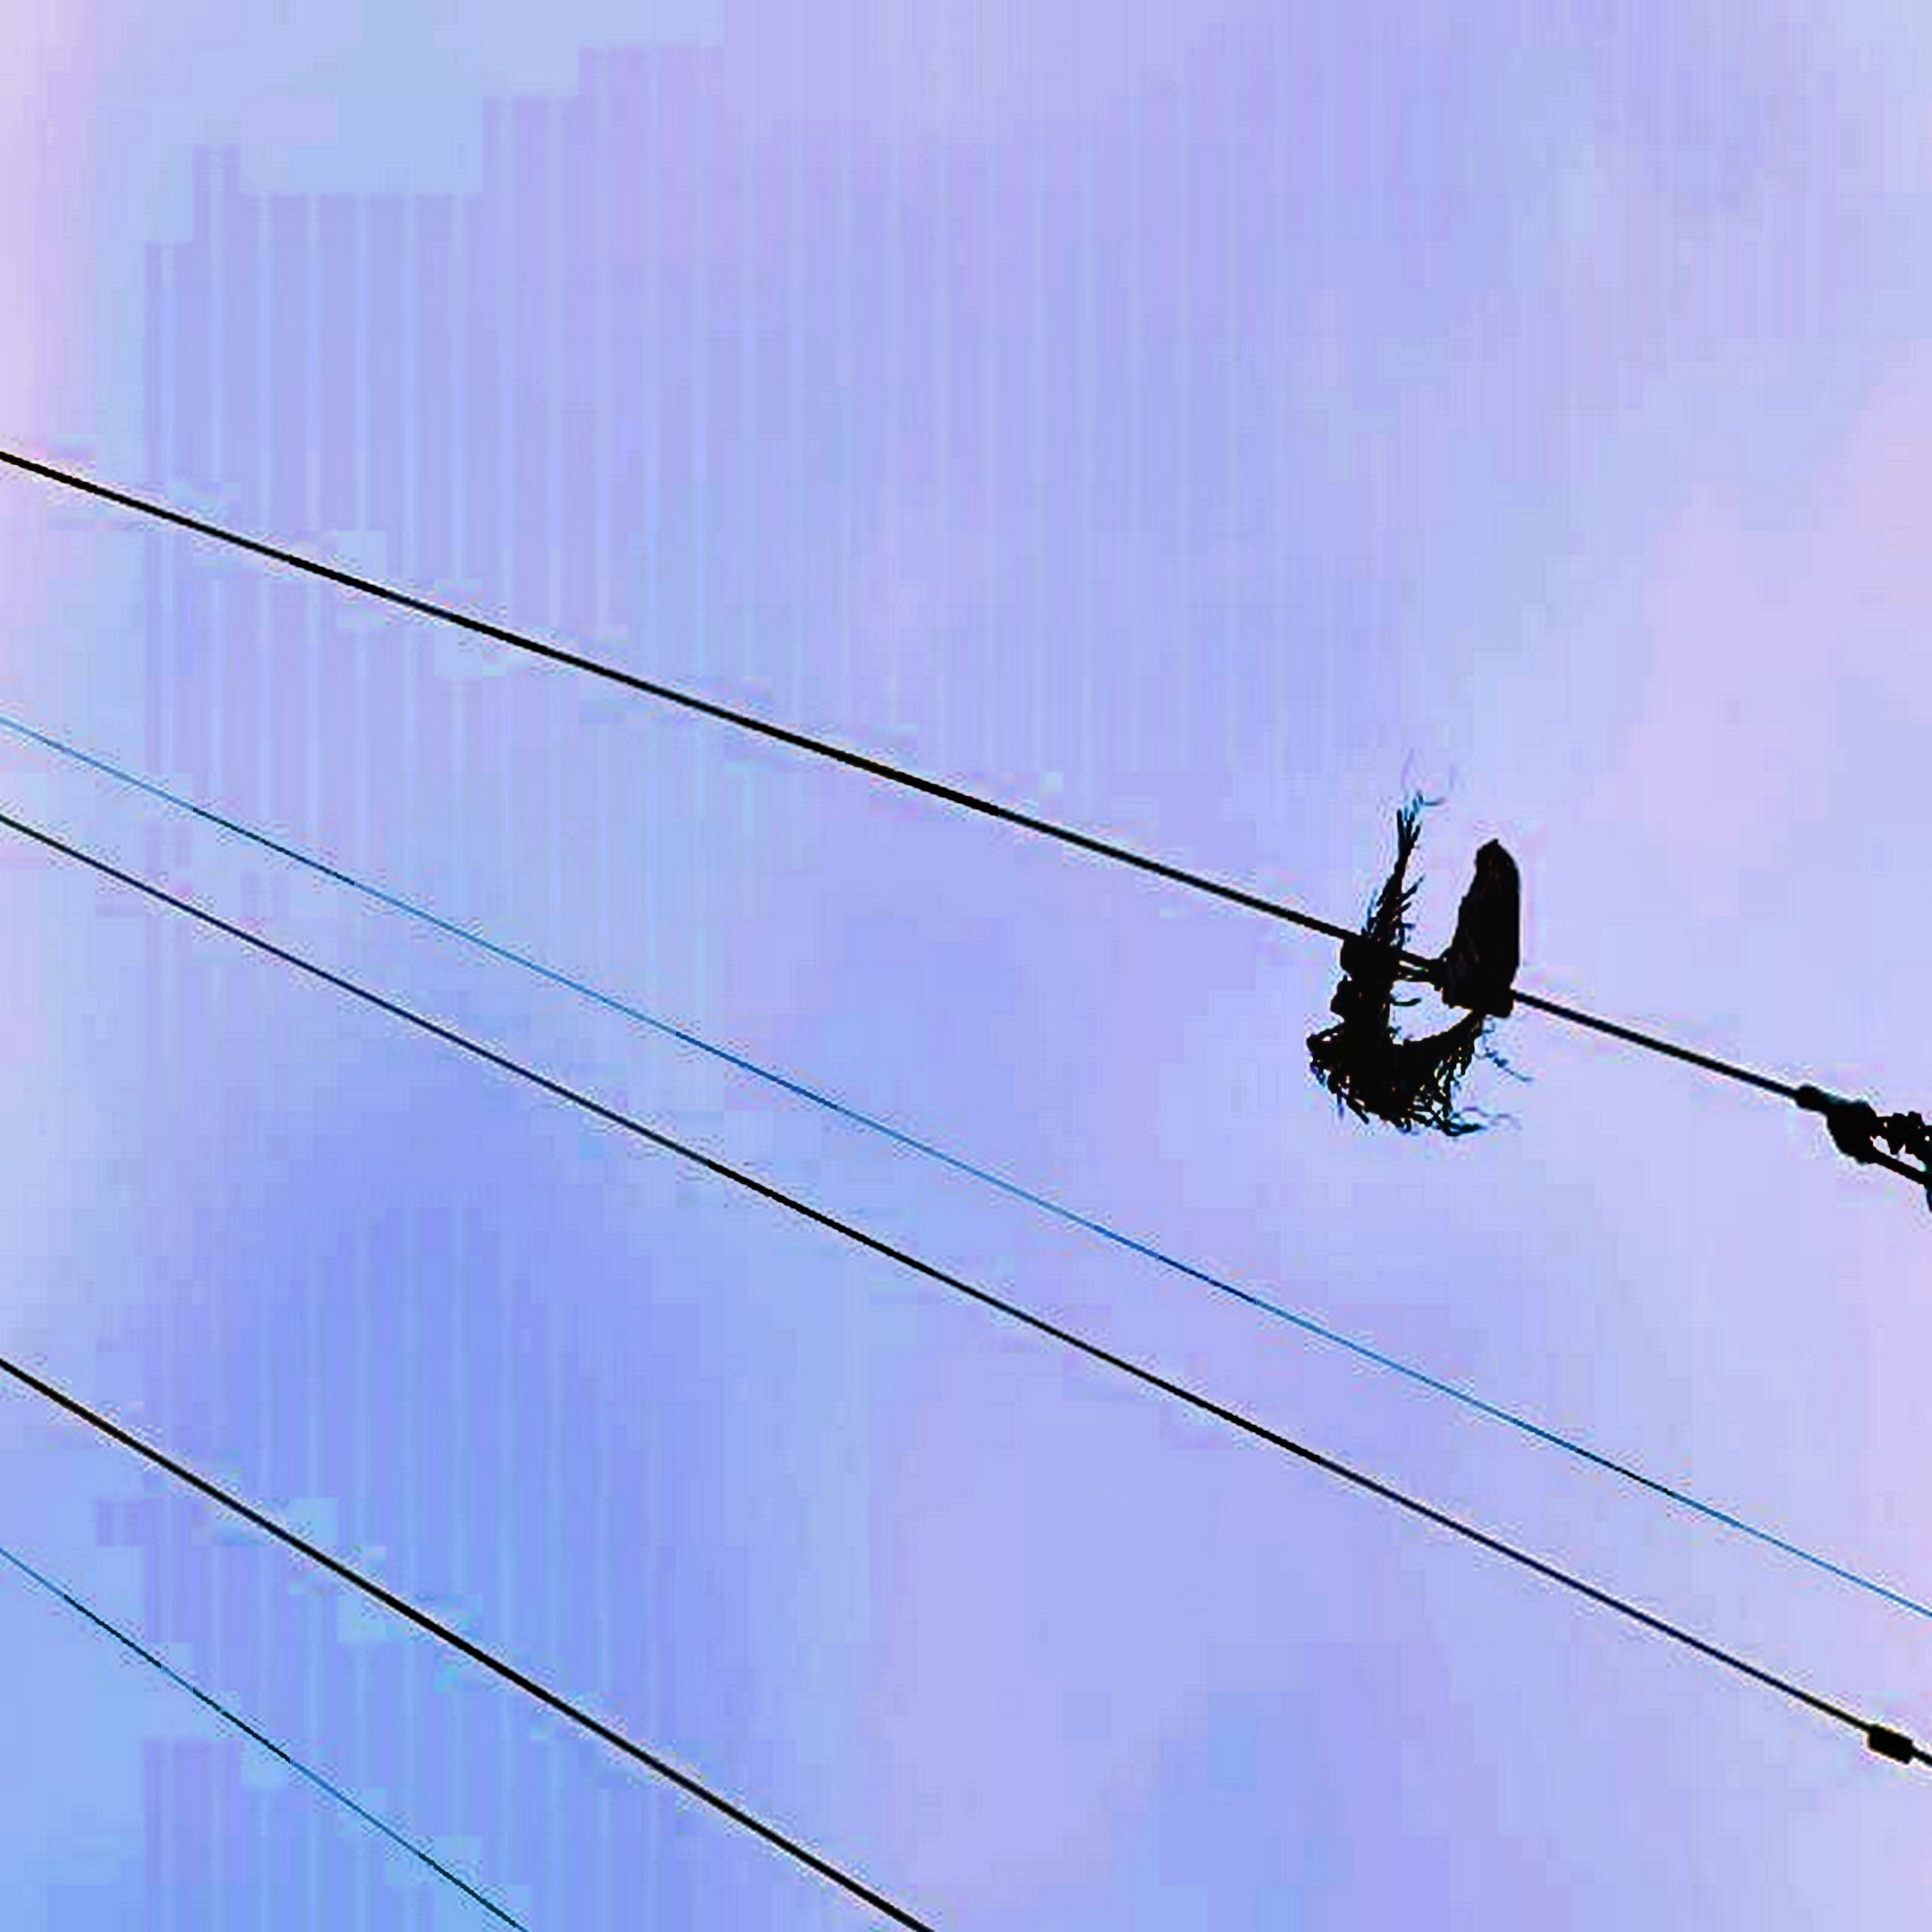wire foreign body: (1265, 798, 1559, 1164)
